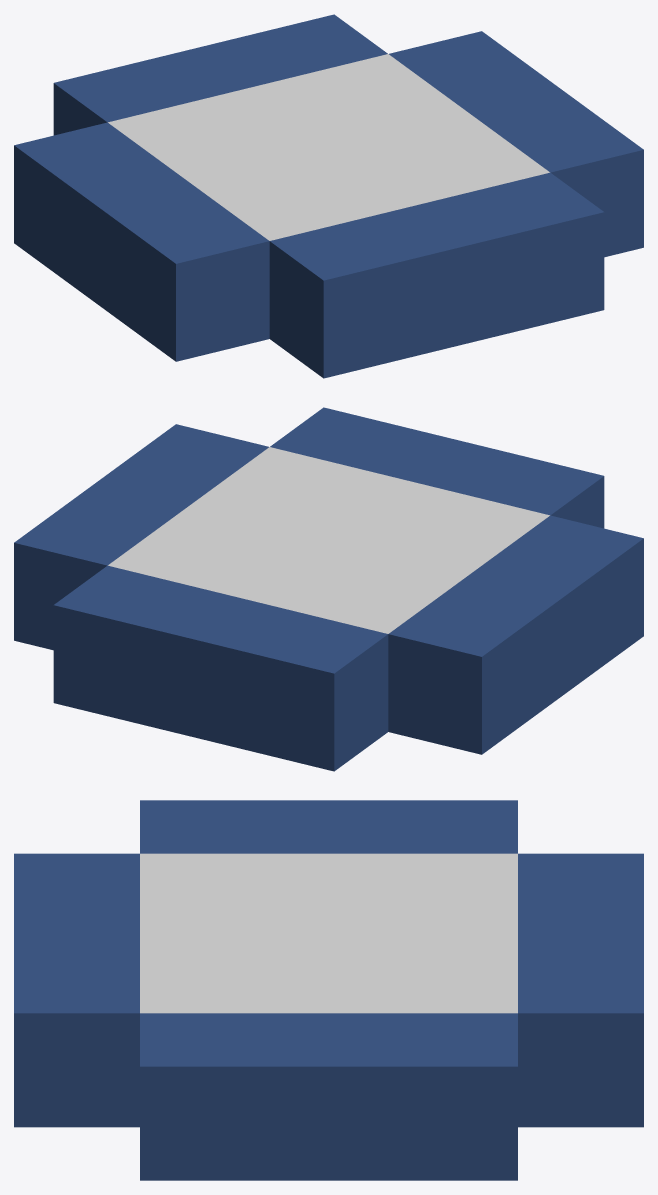
File: DinnerPlateSmall.obj
3 renders of one model, top to bottom at view 1: azimuth 30°, elevation 25°; view 2: azimuth 150°, elevation 25°; view 3: azimuth 270°, elevation 25°, orthographic. The views are drawn at different scales.
Parts seen in each view (by area): view 1: DinnerPlateSmall; view 2: DinnerPlateSmall; view 3: DinnerPlateSmall.
Boxes of the visible parts, x1,y1,x2,y2 form: DinnerPlateSmall: (14,14,643,378); DinnerPlateSmall: (14,407,643,771); DinnerPlateSmall: (14,800,643,1180).
Size of the model in its own units: 5 by 1 by 5.
1 material, 1 textured.
